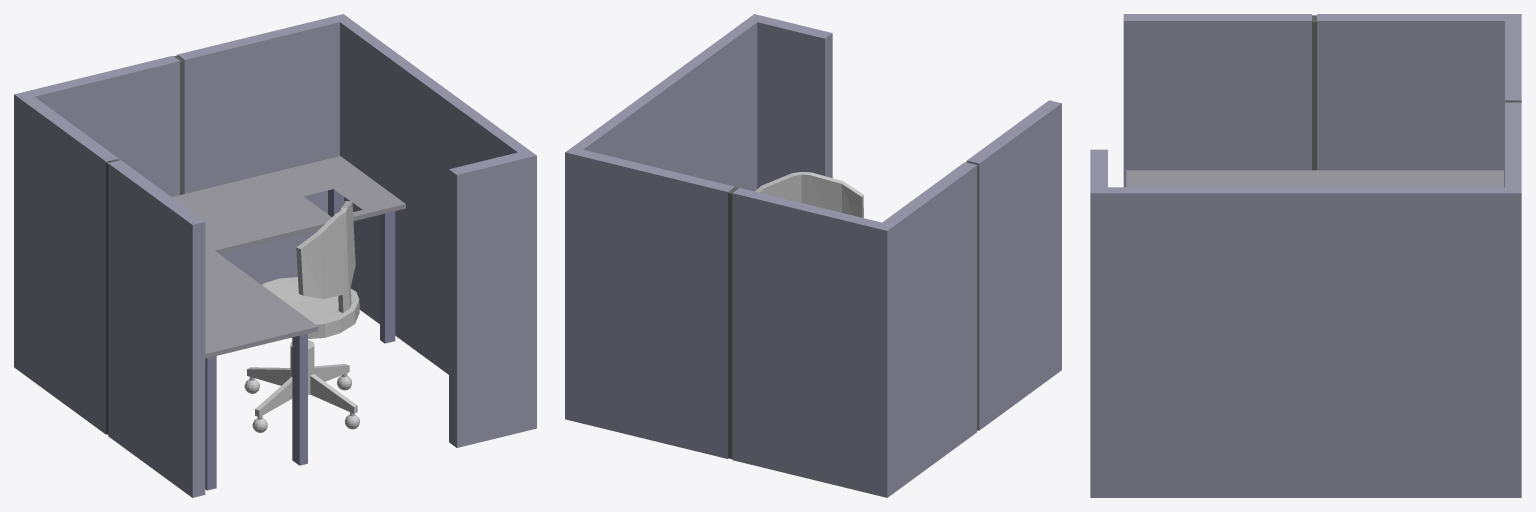
File: cubicle.fbx
The picture shows the model from 3 angles, left to right: view 1: azimuth 30°, elevation 25°; view 2: azimuth 150°, elevation 25°; view 3: azimuth 270°, elevation 25°; orthographic projection. The views are drawn at different scales.
Parts seen in each view (by area): view 1: pCube1, pCube2, pSphere5; view 2: pCube1, pSphere5; view 3: pCube1, pCube2.
Boxes of the visible parts, <box> form: pCube1: <box>14,14,536,497</box>; pCube2: <box>172,156,405,490</box>; pSphere5: <box>244,201,359,432</box>; pCube1: <box>565,14,1061,497</box>; pSphere5: <box>755,172,863,217</box>; pCube1: <box>1090,14,1521,497</box>; pCube2: <box>1126,170,1503,187</box>.
Bounding box in the file's own units: 4.58 × 3.8 × 4.65.
